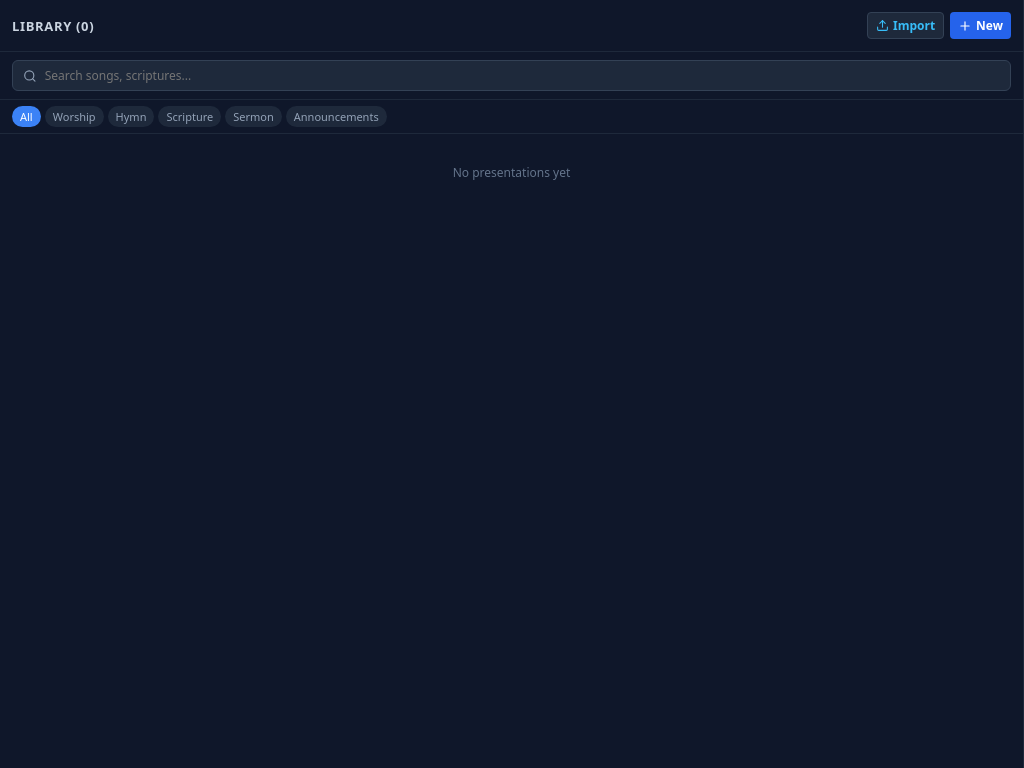
Import button › shows why a file could not be imported and offers to import it as pictures
Click the button "Import" at (906, 26), box [867,12,944,39]
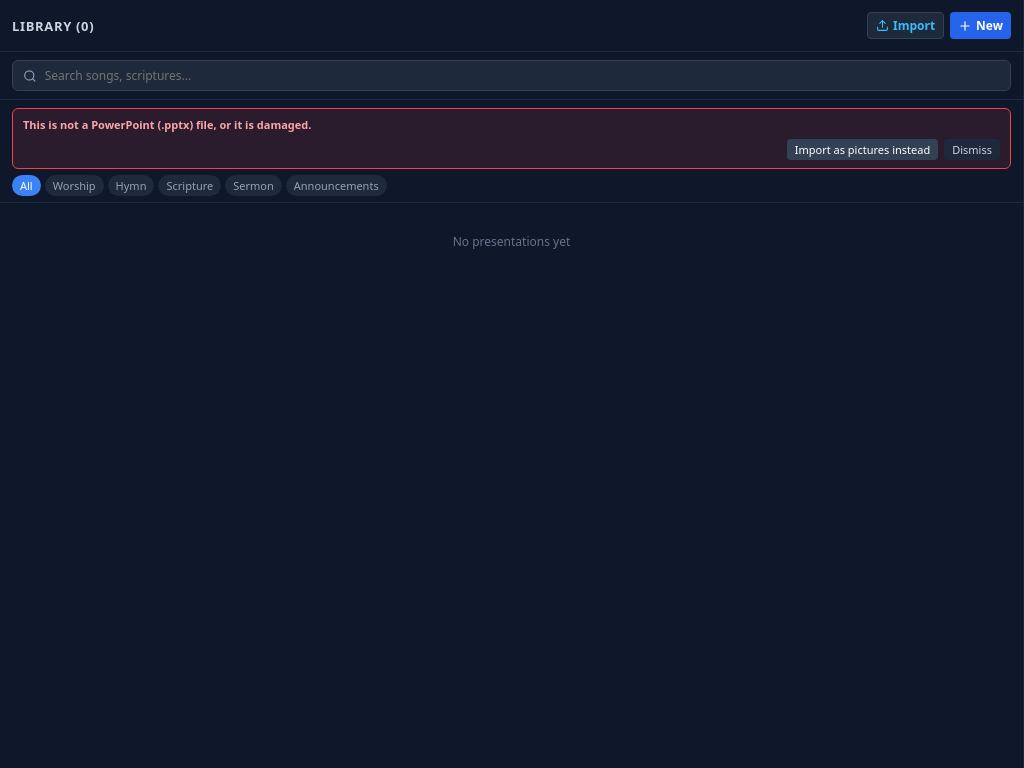
Result: the text with test id "import-error" shows "not a PowerPoint" at [23,117,311,132]
Click the button with test id "import-as-pictures" at (862, 149), box [787,139,938,160]
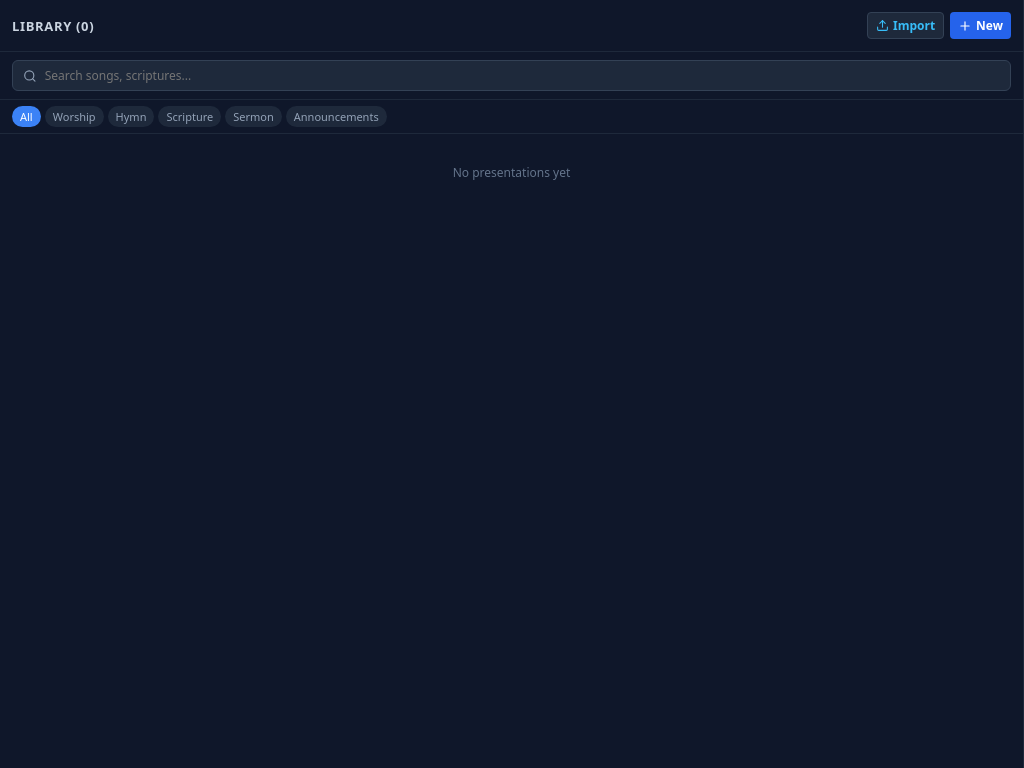
Result: the element with test id "import-notice" is gone
